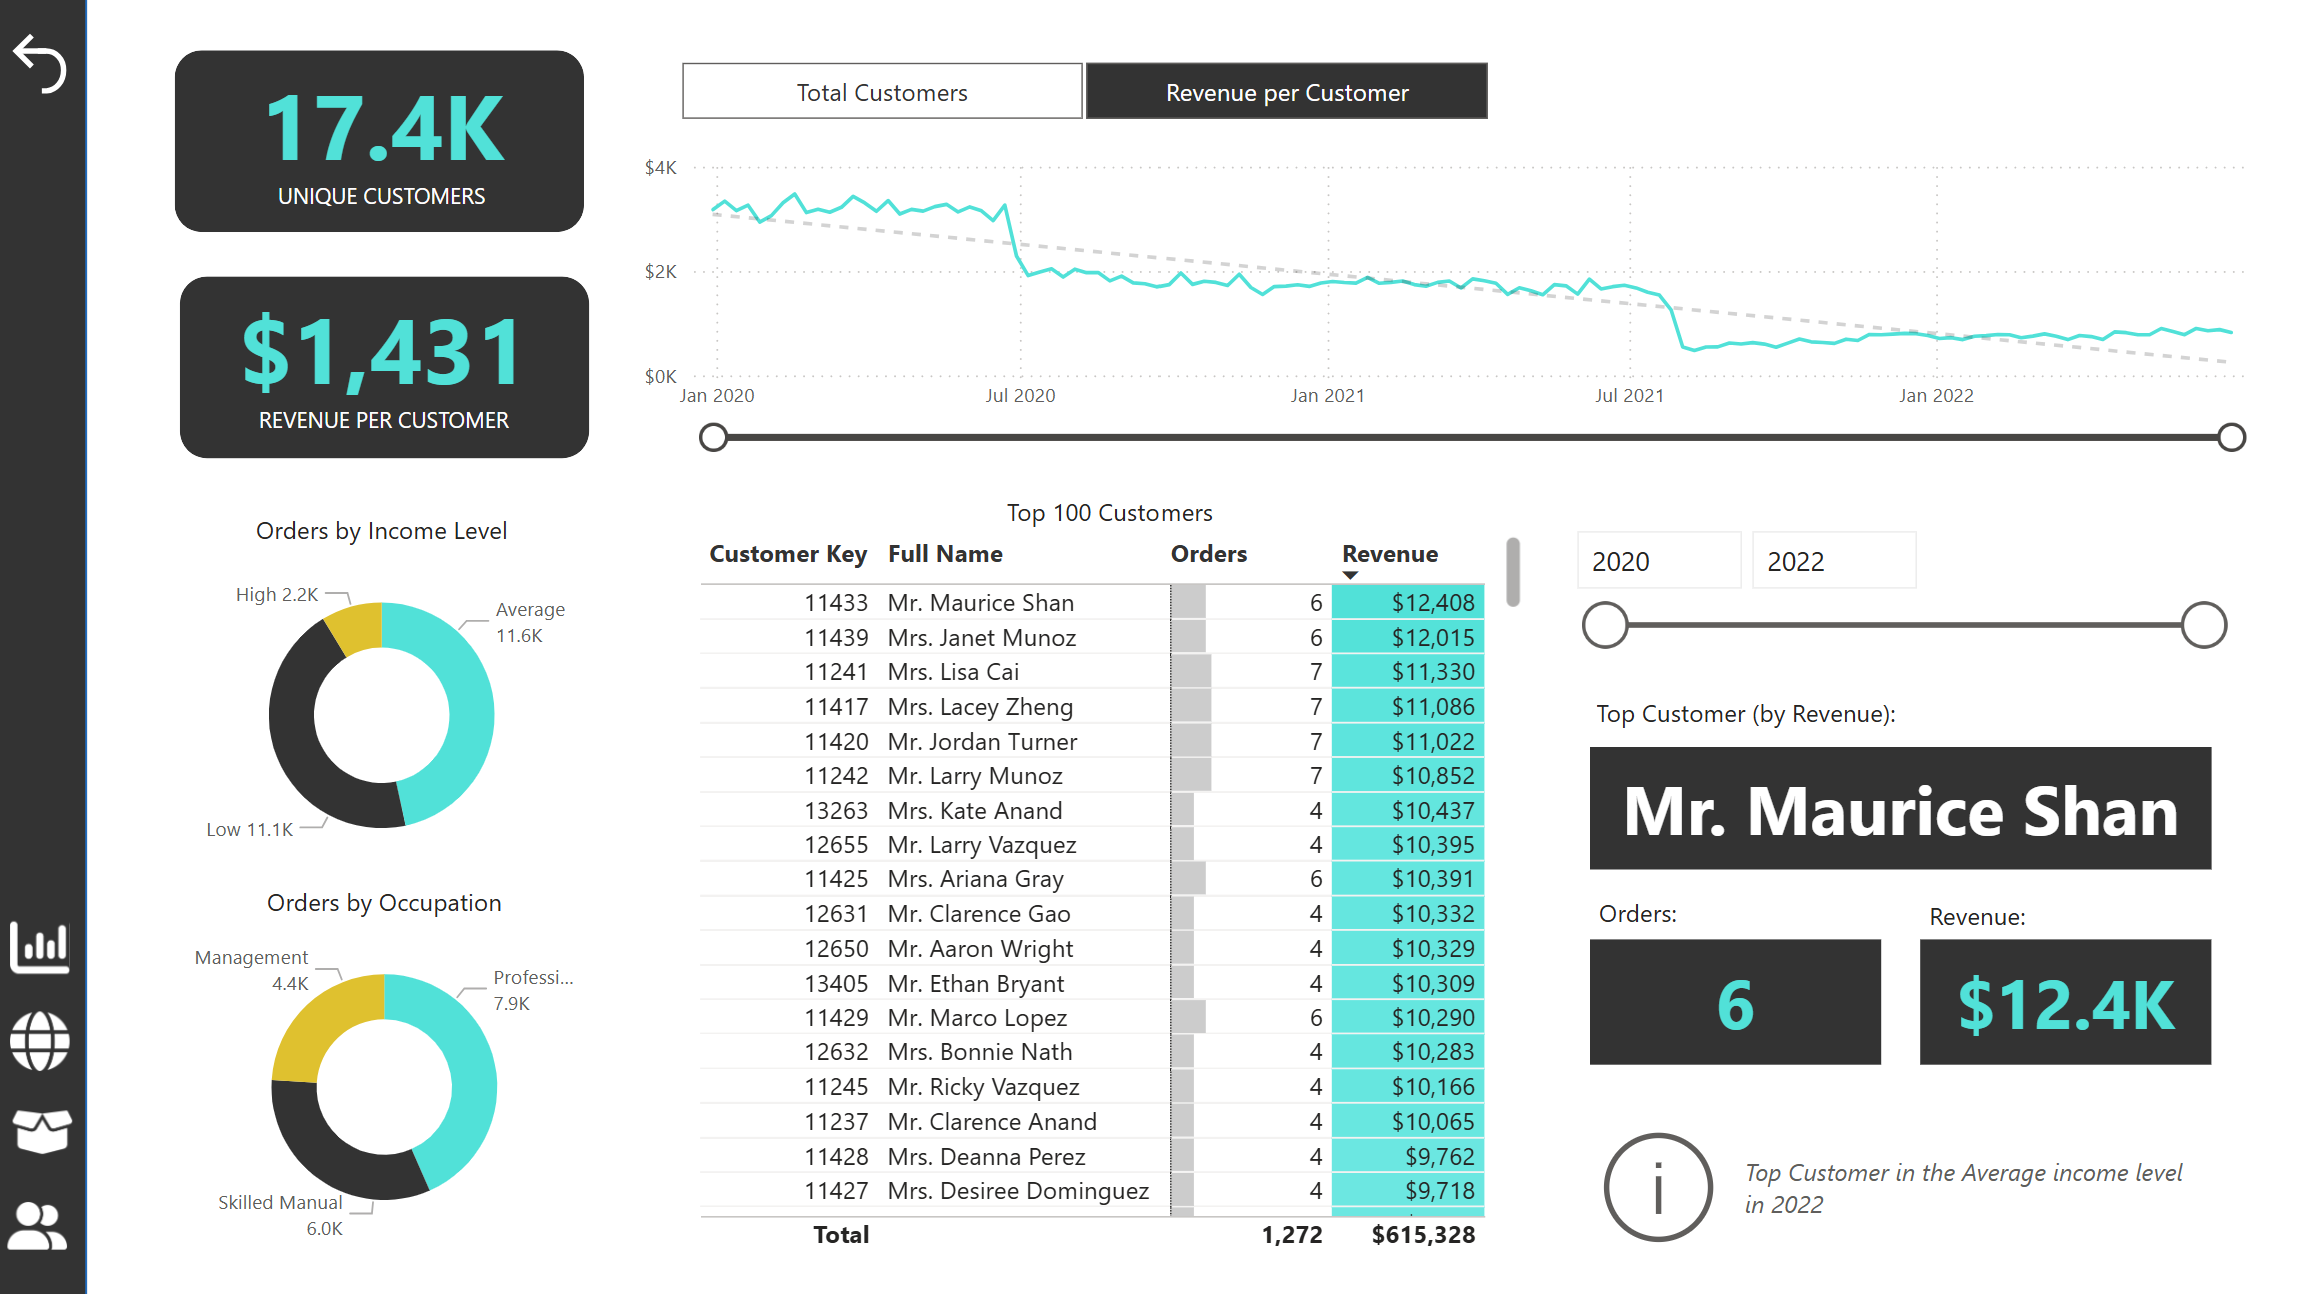

Layout of this report page (visuals, bound fields, positions):
{"tool":"powerbi","page":{"name":"Customer Detail","canvas":[1280,720],"ordinal":3},"visuals":[{"type":"shape","box":[0,0,53.3,720],"z":0},{"type":"shape","box":[101.8,31.7,225,100],"z":1000},{"type":"actionButton","box":[6.6,504.8,43.8,40.8],"z":1000,"group":"g1"},{"type":"card","fields":{"Values":["Measure Table.Total Customers"]},"box":[118.1,3.8,193.3,148.5],"z":2000},{"type":"actionButton","box":[6.6,555.6,43.8,40.8],"z":2000,"group":"g1"},{"type":"shape","box":[103.7,155.3,225,100],"z":3000},{"type":"actionButton","box":[7.4,606.3,43.8,40.8],"z":3000,"group":"g1"},{"type":"card","fields":{"Values":["Measure Table.Average Revenue per Customer"]},"box":[120,127.4,192.9,148.6],"z":4000},{"type":"actionButton","box":[5.1,657.1,43.8,40.8],"z":4000,"group":"g1"},{"type":"lineChart","title":"Weekly Customers","fields":{"Y":["Measure Table.Average Revenue per Customer"],"Category":["Calendar Lookup.Date Hierarchy.Start of Year","Calendar Lookup.Date Hierarchy.Start of Month","Calendar Lookup.Date Hierarchy.Start of Week","Calendar Lookup.Date Hierarchy.Date"]},"box":[354.8,82.1,902.6,173.7],"z":5000},{"type":"donutChart","title":"Orders by Income Level","fields":{"Category":["Customer Lookup.Income Level"],"Y":["Measure Table.Total Orders"]},"box":[101.9,285.7,227.8,204.8],"z":6000},{"type":"donutChart","title":"Orders by Occupation","fields":{"Y":["Measure Table.Total Orders"],"Category":["Customer Lookup.Occupation"]},"box":[103.2,490.5,227.8,204.8],"z":7000},{"type":"tableEx","title":"Top 100 Customers","fields":{"Values":["Customer Lookup.CustomerKey","Customer Lookup.FullName","Measure Table.Total Orders","Measure Table.Total Revenue"]},"box":[384.1,276.3,461.7,420],"z":8000},{"type":"card","fields":{"Values":["Customer Lookup.Full Name (Customer Detail)"]},"box":[878,414.6,341.4,67.1],"z":9000},{"type":"card","fields":{"Values":["Measure Table.Total Orders (Customer Detail)"]},"box":[878.5,520.7,160,69],"z":10000},{"type":"card","fields":{"Values":["Measure Table.Total Revenue (Customer Detail)"]},"box":[1059.5,520.7,160,69],"z":11000},{"type":"textbox","box":[877.7,381.6,187,33],"z":12000},{"type":"textbox","box":[878.5,491.7,72,29],"z":13000},{"type":"textbox","box":[1059.5,492.7,72,29],"z":14000},{"type":"slicer","fields":{"Values":["Calendar Lookup.Year"]},"box":[858,285.6,378.6,75.7],"z":15000},{"type":"actionButton","box":[878,618.4,341.4,75.7],"z":16000},{"type":"actionButton","box":[5,13.8,43.8,49.2],"z":17000},{"type":"group","id":"g1","title":"Navigation Buttons","box":[5.1,504.8,46.2,193.1],"z":18000},{"type":"slicer","fields":{"Values":["Customer Metric Selection.Customer Metric Selection"]},"box":[354.8,32.1,492.1,44.7],"z":19000}]}

Visuals, with their boxes on the page's 1280x720 design canvas (x1, y1, x2, y2). These are canvas units, not pixel positions in the 2312x1294 screenshot, which may show the page scaled, cropped or inside an application window:
shape: <region>0, 0, 53, 720</region>
shape: <region>102, 32, 327, 132</region>
actionButton: <region>7, 505, 50, 546</region>
card - Measure Table.Total Customers: <region>118, 4, 311, 152</region>
actionButton: <region>7, 556, 50, 596</region>
shape: <region>104, 155, 329, 255</region>
actionButton: <region>7, 606, 51, 647</region>
card - Measure Table.Average Revenue per Customer: <region>120, 127, 313, 276</region>
actionButton: <region>5, 657, 49, 698</region>
"Weekly Customers" lineChart: <region>355, 82, 1257, 256</region>
"Orders by Income Level" donutChart: <region>102, 286, 330, 490</region>
"Orders by Occupation" donutChart: <region>103, 490, 331, 695</region>
"Top 100 Customers" tableEx: <region>384, 276, 846, 696</region>
card - Customer Lookup.Full Name (Customer Detail): <region>878, 415, 1219, 482</region>
card - Measure Table.Total Orders (Customer Detail): <region>878, 521, 1038, 590</region>
card - Measure Table.Total Revenue (Customer Detail): <region>1060, 521, 1220, 590</region>
textbox: <region>878, 382, 1065, 415</region>
textbox: <region>878, 492, 950, 521</region>
textbox: <region>1060, 493, 1132, 522</region>
slicer - Calendar Lookup.Year: <region>858, 286, 1237, 361</region>
actionButton: <region>878, 618, 1219, 694</region>
actionButton: <region>5, 14, 49, 63</region>
"Navigation Buttons" group: <region>5, 505, 51, 698</region>
slicer - Customer Metric Selection.Customer Metric Selection: <region>355, 32, 847, 77</region>
